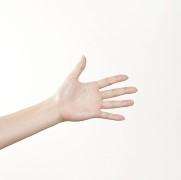pa-: (62, 54, 138, 123)
